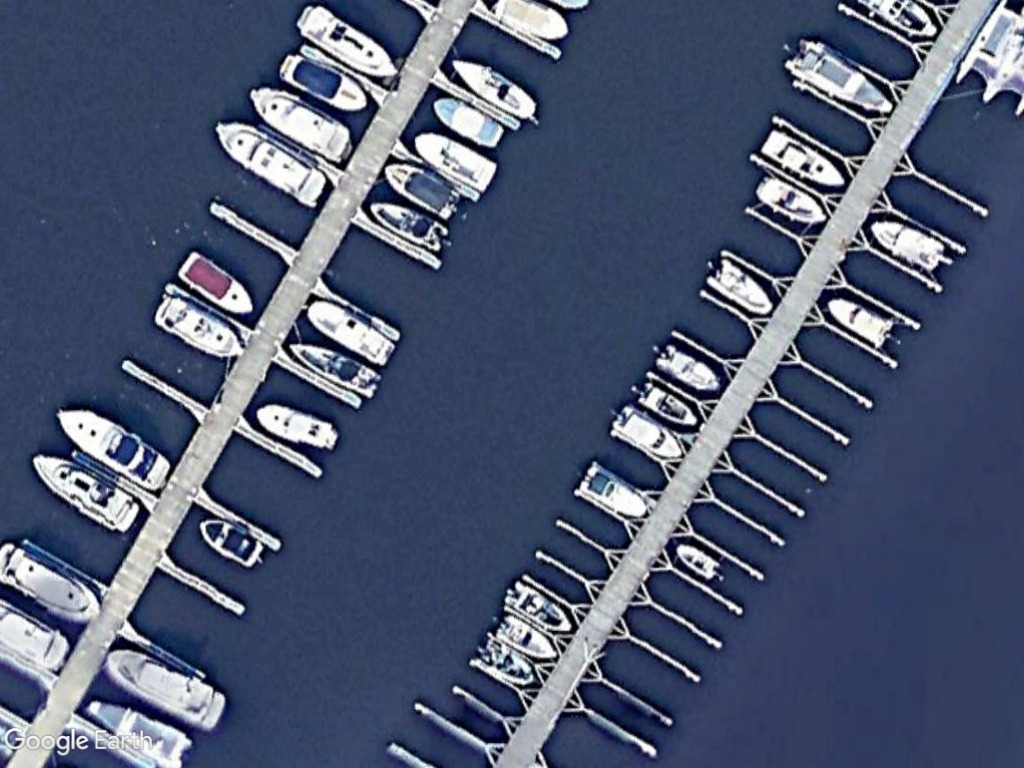boat: (212, 117, 332, 212), (103, 646, 229, 734), (50, 404, 174, 492), (243, 83, 356, 167), (28, 450, 141, 533), (292, 2, 401, 87), (781, 40, 895, 119), (0, 538, 102, 620), (82, 697, 194, 768), (304, 295, 398, 371), (148, 290, 248, 361), (447, 53, 542, 126), (276, 49, 370, 116), (410, 128, 501, 197), (756, 125, 848, 193), (173, 248, 255, 323), (283, 339, 383, 400), (379, 158, 464, 223), (251, 400, 344, 456), (364, 197, 452, 254), (574, 464, 653, 524), (868, 215, 948, 273), (822, 292, 899, 351), (609, 407, 687, 465), (499, 580, 577, 638), (428, 93, 507, 150), (703, 258, 778, 317), (751, 170, 828, 227), (650, 340, 722, 396), (193, 516, 267, 569), (630, 380, 702, 431), (471, 634, 538, 685), (490, 0, 572, 41), (494, 611, 559, 661), (670, 538, 725, 586)
